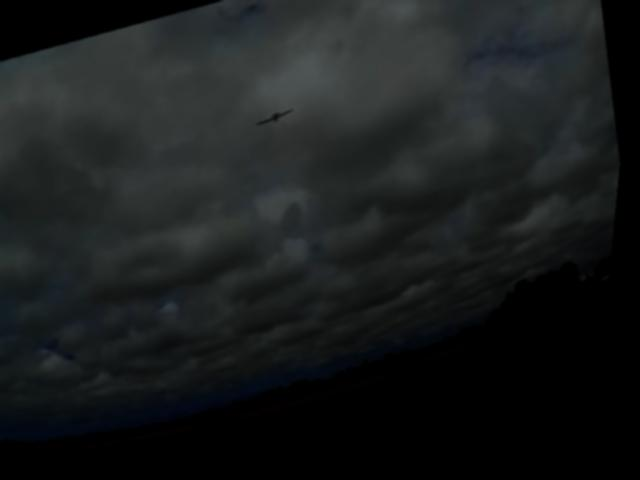uav: (250, 100, 303, 139)
